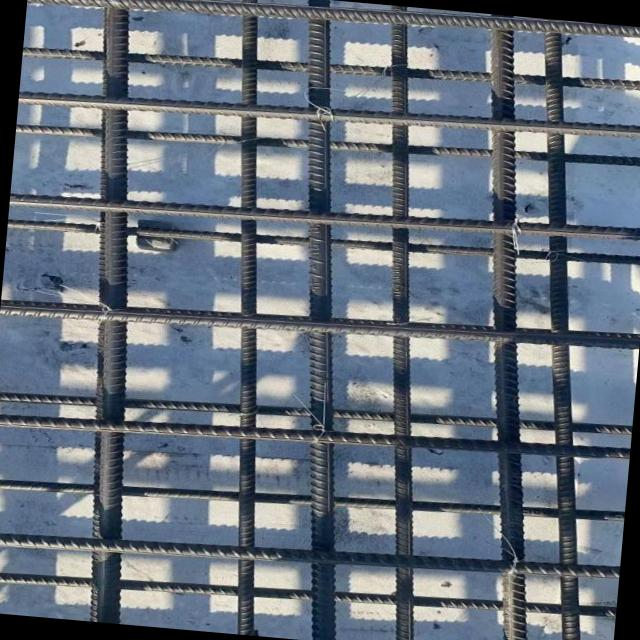ribbed bar: (434, 13, 583, 640), (251, 0, 390, 640), (489, 31, 635, 640), (338, 5, 469, 640), (189, 0, 311, 634), (48, 0, 172, 622), (0, 276, 639, 371), (0, 391, 629, 483), (9, 173, 640, 264), (18, 69, 640, 160), (0, 509, 619, 600), (0, 455, 624, 545), (0, 370, 631, 459), (22, 25, 640, 114), (0, 549, 615, 638), (16, 102, 640, 189), (8, 201, 640, 284), (27, 0, 640, 58)
